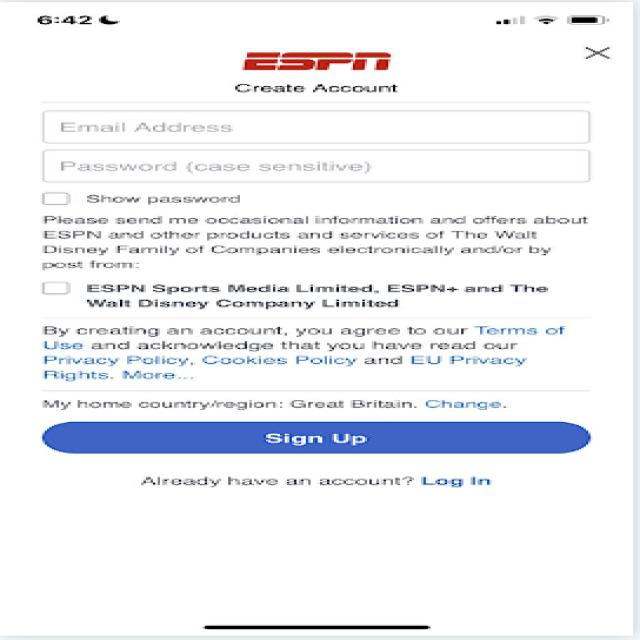button: (27, 416, 602, 463)
icon button: (562, 36, 632, 68)
input: (27, 99, 614, 148), (27, 142, 616, 188)
text: (21, 192, 621, 411), (127, 473, 531, 498)
